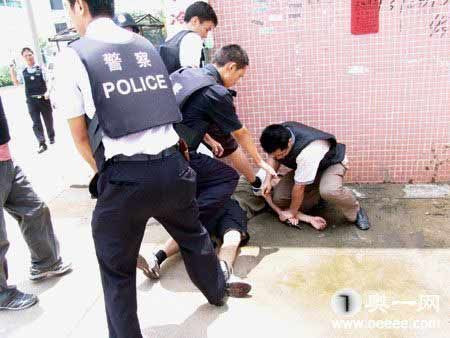fall: (143, 151, 310, 297)
